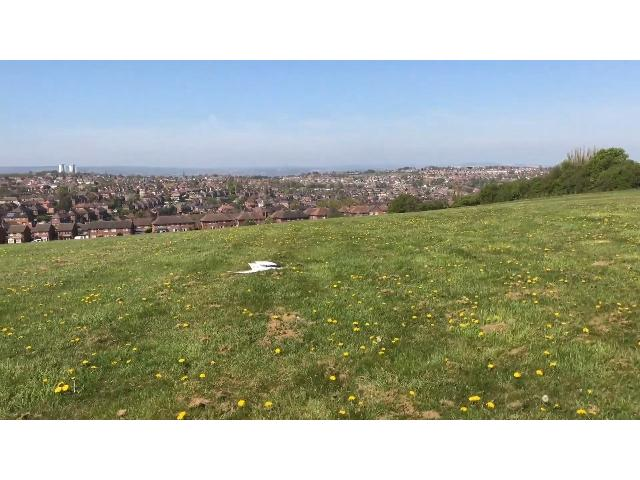Anti-Drone: (222, 253, 302, 284)
